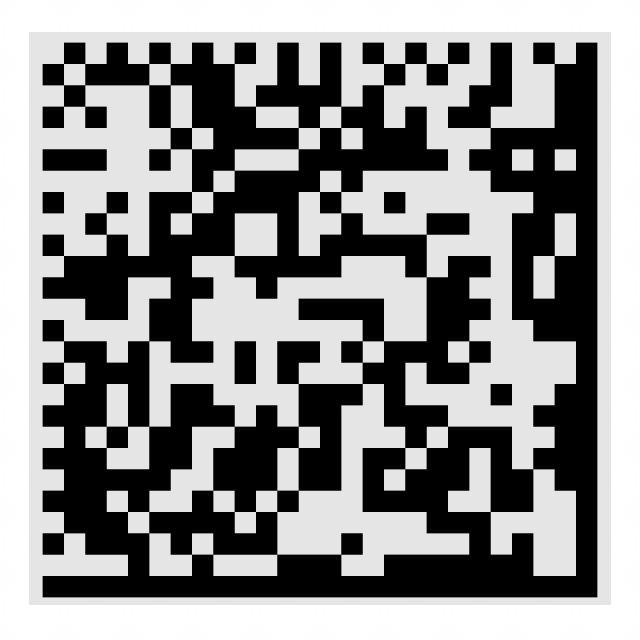Data-Matrix: (29, 32, 611, 605)
